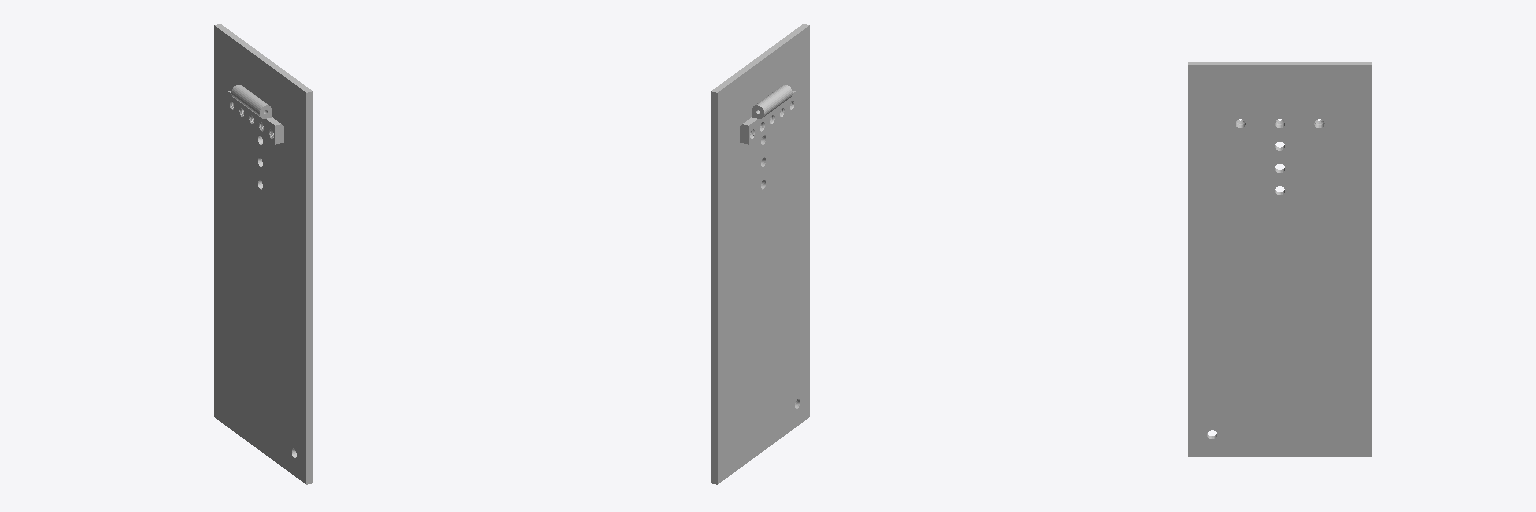
File: ducket_left.obj
The picture shows the model from 3 angles: view 1: azimuth 30°, elevation 25°; view 2: azimuth 150°, elevation 25°; view 3: azimuth 270°, elevation 25°; orthographic projection.
Size of the model in its own units: 0.01 by 0.1755 by 0.075.